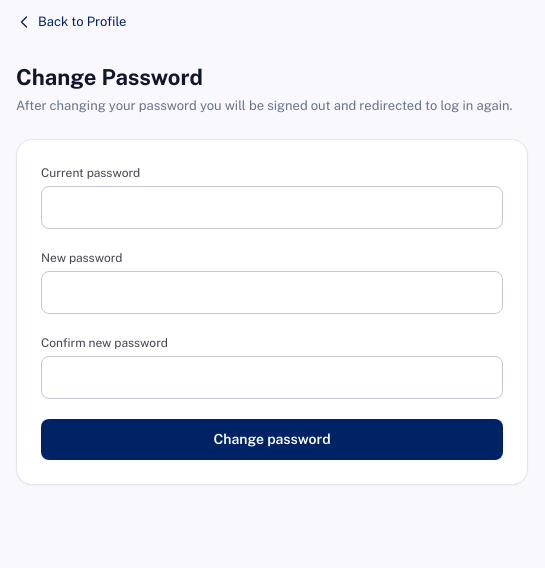
Test: AC-08: ChangePasswordScreen shows "New password must differ" on 422 › shows the 422 error message
This screenshot has width=545, height=568.
In the password field labelled "Current password": (272, 208) x1=41 y1=186 x2=503 y2=229, type "Samepass123!"
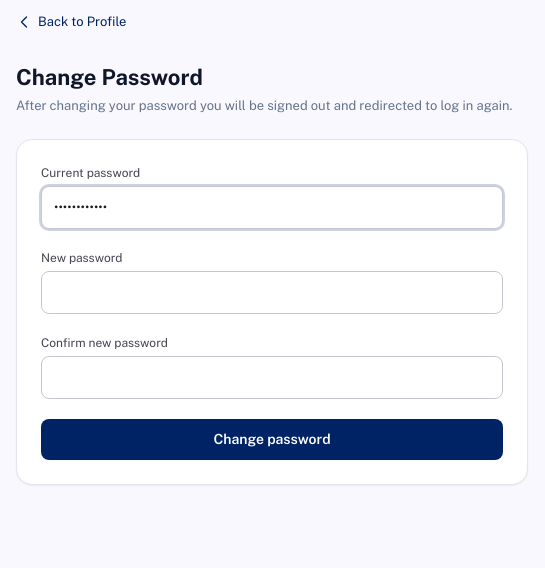
In the password field labelled "New password": (272, 293) x1=41 y1=271 x2=503 y2=314, type "Samepass123!"
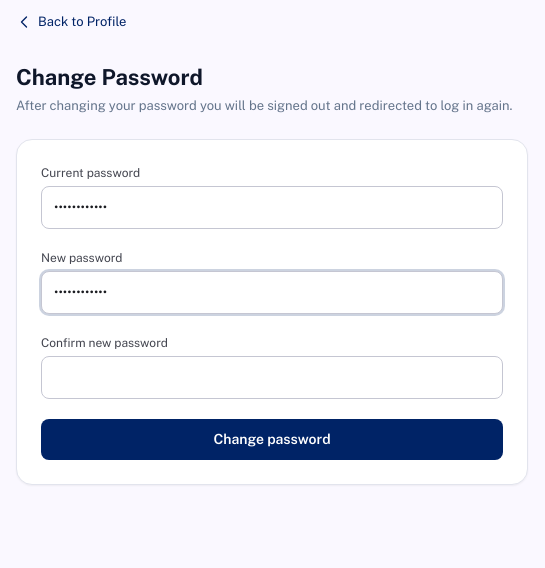
In the password field labelled "Confirm new password": (272, 378) x1=41 y1=356 x2=503 y2=399, type "Samepass123!"
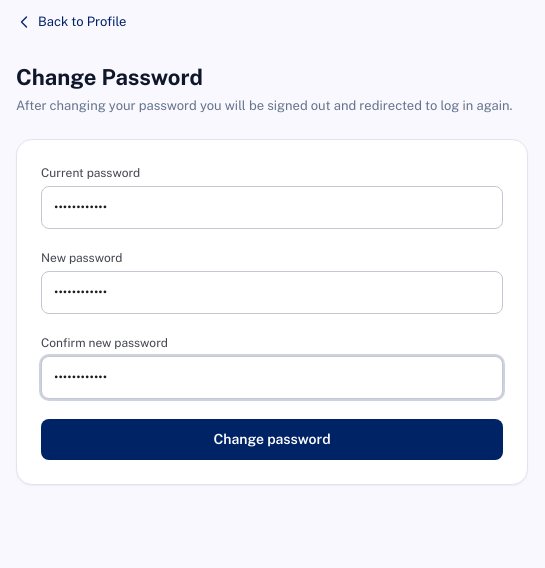
Click the button "Change password": (272, 440) x1=41 y1=419 x2=503 y2=460
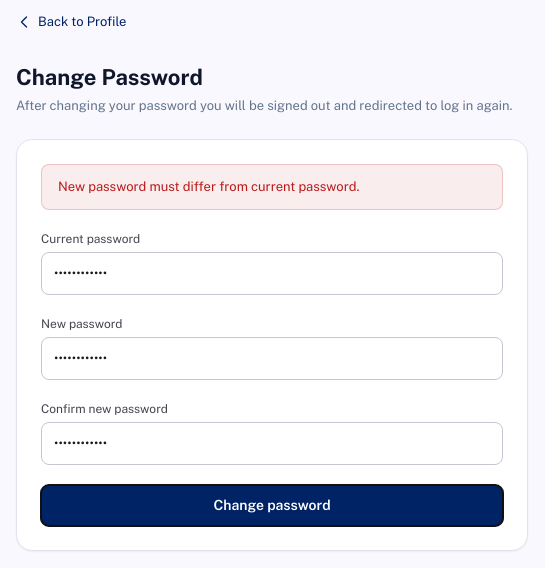
Result: the text "New password must differ from current password." is shown at x1=41 y1=164 x2=503 y2=210
